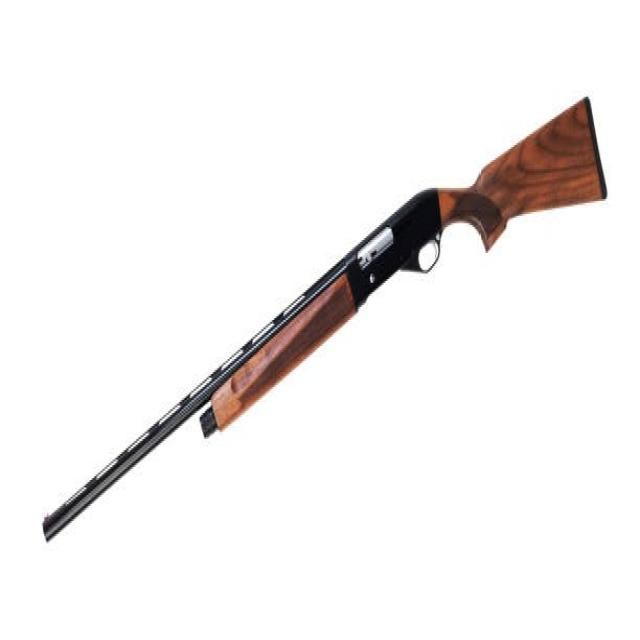rifle: (34, 90, 615, 570)
